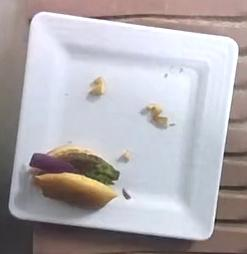burger: (27, 143, 119, 209)
